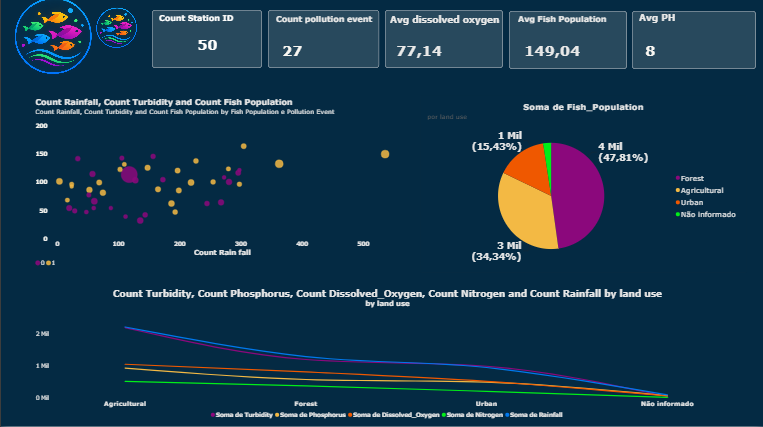

This screenshot's page, from the dashboard's own definition file:
{"tool":"powerbi","page":{"name":"Quality water","canvas":[1920,1080],"ordinal":0},"visuals":[{"type":"cardVisual","title":"Count Station ID","fields":{"Data":["CountNonNull(Copy of WaterQuality (1).Station_ID)"]},"box":[398.7,37.3,245,120],"z":0},{"type":"cardVisual","title":"Count pollution event","fields":{"Data":["Sum(Copy of WaterQuality (1).Pollution_Event)"]},"box":[693.5,39.8,249.4,143.6],"z":1000},{"type":"cardVisual","title":"Avg PH","fields":{"Data":["Avg(Copy of WaterQuality (1).ph alterado)"]},"box":[1607.6,35.3,312.4,151.2],"z":2000},{"type":"cardVisual","fields":{"Data":["Avg(Copy of WaterQuality (1).Dissolved_Oxygen)"]},"box":[980.8,39.8,279.7,138.6],"z":3000},{"type":"cardVisual","title":"Avg Fish Population","fields":{"Data":["Avg(Copy of WaterQuality (1).Fish_Population)"]},"box":[1302.7,40.3,252,146.1],"z":4000},{"type":"pieChart","fields":{"Category":["Copy of WaterQuality (1).land use"],"Y":["Sum(Copy of WaterQuality (1).Fish_Population)"]},"box":[1058.3,246.9,818.9,443.5],"z":5000},{"type":"lineChart","title":"Count Turbidity, Count Phosphorus, Count Dissolved_Oxygen, Count Nitrogen and Count Rainfall by land use","fields":{"Category":["Copy of WaterQuality (1).land use"],"Y":["Sum(Copy of WaterQuality (1).Turbidity)"],"Y2":["Sum(Copy of WaterQuality (1).Phosphorus)","Sum(Copy of WaterQuality (1).Dissolved_Oxygen)","Sum(Copy of WaterQuality (1).Nitrogen)","Sum(Copy of WaterQuality (1).Rainfall)"]},"box":[70.6,715.6,1806.6,365.4],"z":6000},{"type":"scatterChart","title":"Count Rainfall, Count Turbidity and Count Fish Population","fields":{"Category":["Copy of WaterQuality (1).Fish_Population"],"Series":["Copy of WaterQuality (1).Pollution_Event"],"Size":["Sum(Copy of WaterQuality (1).Fish_Population)"],"X":["Sum(Copy of WaterQuality (1).Rainfall)"],"Y":["Sum(Copy of WaterQuality (1).Turbidity)"]},"box":[70.6,236.9,949.9,461.1],"z":7000},{"type":"shape","box":[381,30.2,277.2,146.1],"z":7001},{"type":"shape","box":[673.3,30.2,279.7,146.1],"z":7002},{"type":"shape","box":[968.1,30.2,297.3,146.1],"z":7003},{"type":"shape","box":[1280,32.8,297.3,146.1],"z":7004},{"type":"shape","box":[1589.9,32.8,312.4,146.1],"z":7005},{"type":"image","box":[0,0,267.1,196.5],"z":7006},{"type":"image","box":[221.7,15.1,141.1,123.5],"z":7007}]}

Visuals, with their boxes in screenshot pixels (x1, y1, x2, y2), scaled from the page's 1920x1080 canvas onto the 763x427 screenshot:
"Count Station ID" cardVisual: 158, 15, 256, 62
"Count pollution event" cardVisual: 276, 16, 375, 73
"Avg PH" cardVisual: 639, 14, 762, 74
cardVisual - Avg(Copy of WaterQuality (1).Dissolved_Oxygen): 390, 16, 501, 71
"Avg Fish Population" cardVisual: 518, 16, 618, 74
pieChart - Copy of WaterQuality (1).land use x Sum(Copy of WaterQuality (1).Fish_Population): 421, 98, 746, 273
"Count Turbidity, Count Phosphorus, Count Dissolved_Oxygen, Count Nitrogen and Count Rainfall by land use" lineChart: 28, 283, 746, 426
"Count Rainfall, Count Turbidity and Count Fish Population" scatterChart: 28, 94, 406, 276
shape: 151, 12, 262, 70
shape: 268, 12, 379, 70
shape: 385, 12, 503, 70
shape: 509, 13, 627, 71
shape: 632, 13, 756, 71
image: 0, 0, 106, 78
image: 88, 6, 144, 55
